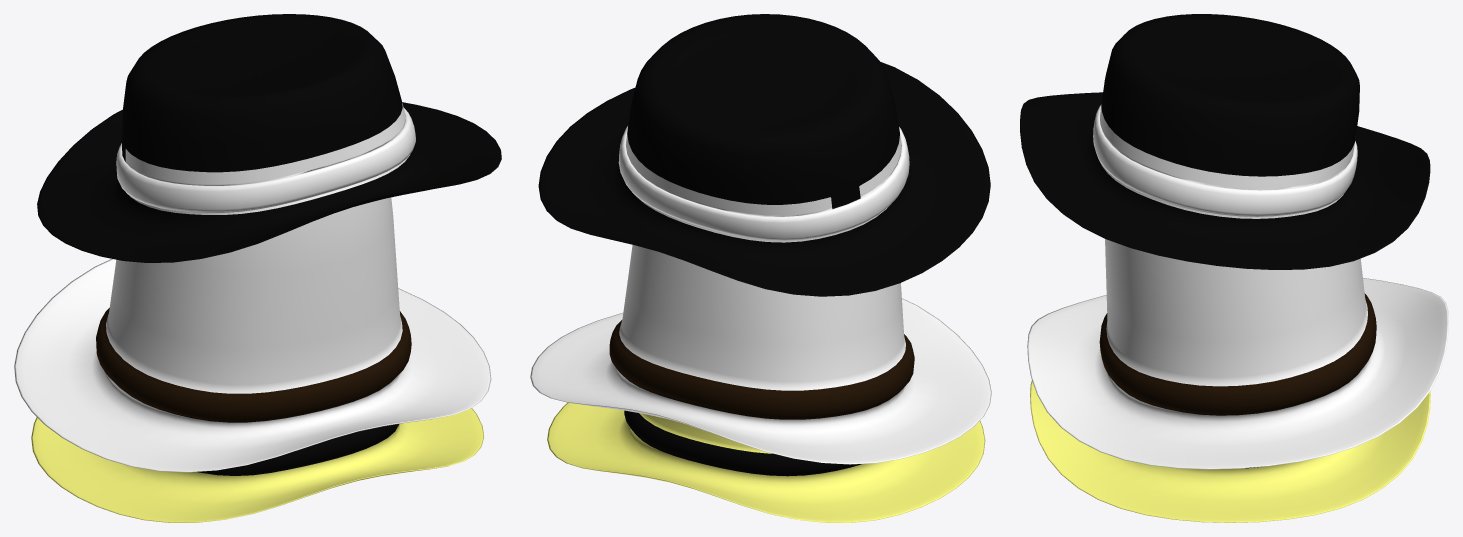
File: threehats.fbx
3 renders of one model, left to right at view 1: azimuth 30°, elevation 25°; view 2: azimuth 150°, elevation 25°; view 3: azimuth 270°, elevation 25°, orthographic. The views are drawn at different scales.
Parts seen in each view (by area): view 1: 1tophat; view 2: 1tophat; view 3: 1tophat.
Boxes of the visible parts, box(x1,y1,x2,y2) form: 1tophat: box(14, 14, 501, 522); 1tophat: box(530, 14, 991, 522); 1tophat: box(1020, 14, 1448, 522).
Size of the model in its own units: 151 by 137 by 138.
